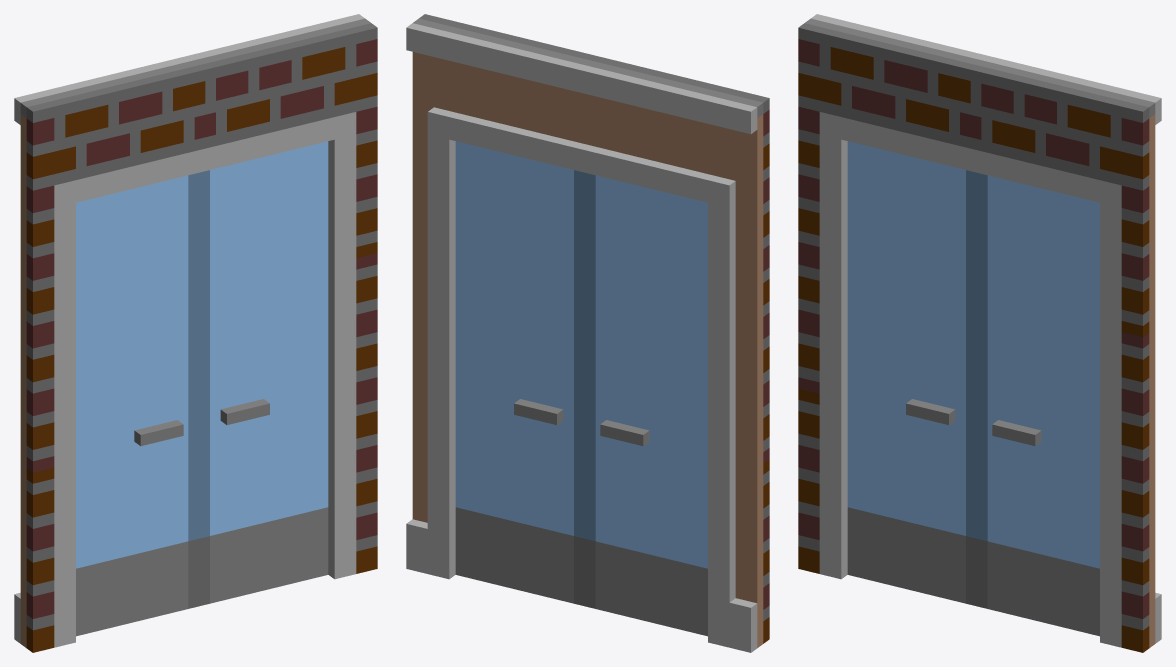
The model's file is WallsSimpleV1DoubleDoor.obj.
3 views of the same model, side by side, from view 1: azimuth 30°, elevation 25°; view 2: azimuth 150°, elevation 25°; view 3: azimuth 330°, elevation 25° (orthographic).
Bounding box in the file's own units: 3.2 × 4.8 × 0.3.
1 material, 1 textured.
